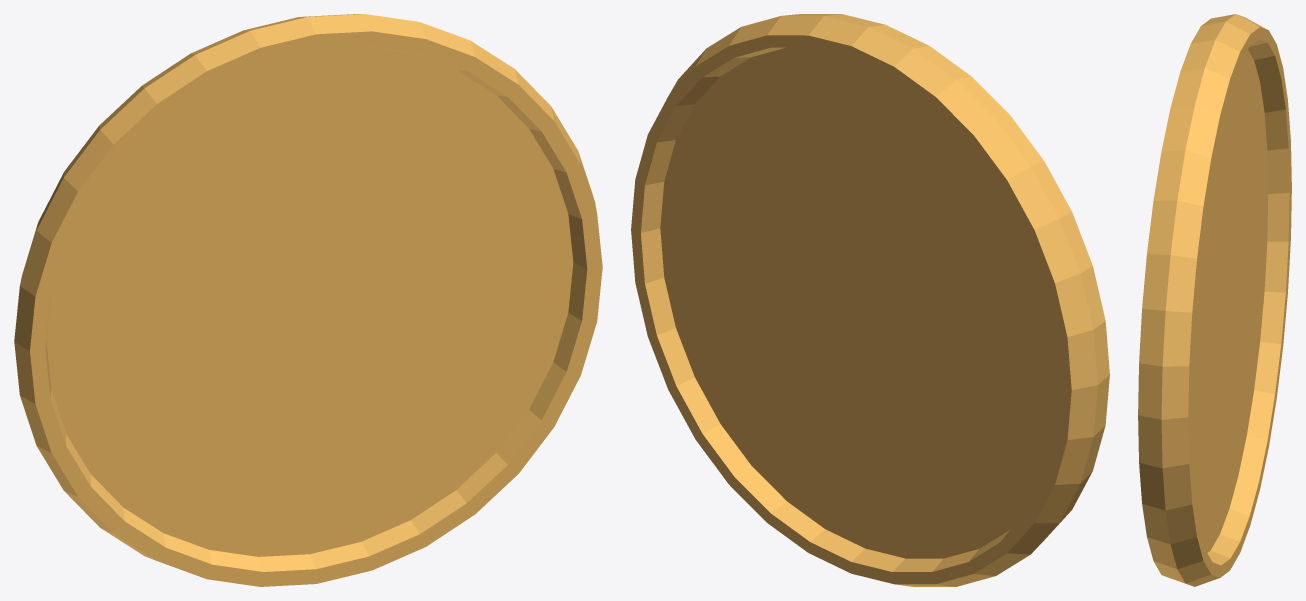
Rendered from Coin.fbx.
3 renders of one model, left to right at view 1: azimuth 30°, elevation 25°; view 2: azimuth 150°, elevation 25°; view 3: azimuth 270°, elevation 25°, orthographic. The views are drawn at different scales.
Parts seen in each view (by area): view 1: Cylinder; view 2: Cylinder; view 3: Cylinder.
Part boxes in pixels (left/top/right/bottom): Cylinder: left=14, top=14, right=602, bottom=586; Cylinder: left=631, top=14, right=1109, bottom=586; Cylinder: left=1138, top=14, right=1291, bottom=586.
Bounding box in the file's own units: 4033 × 4105 × 1098.
